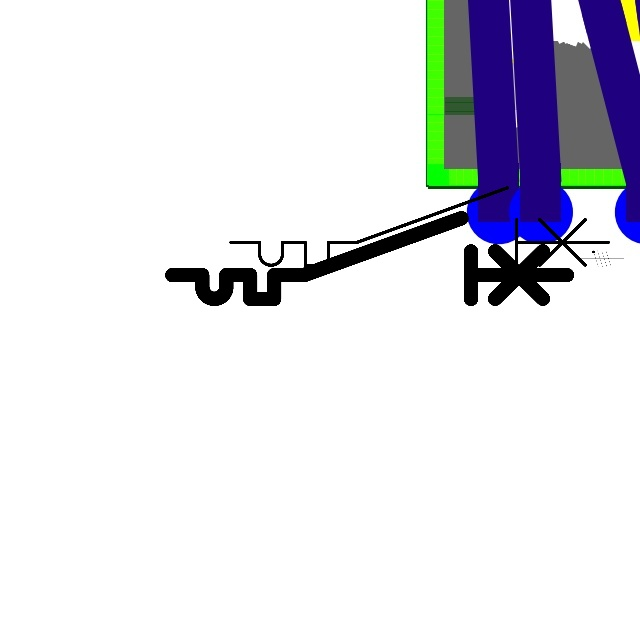interruptor_termomagnetico: (162, 208, 577, 309), (221, 178, 618, 275)
